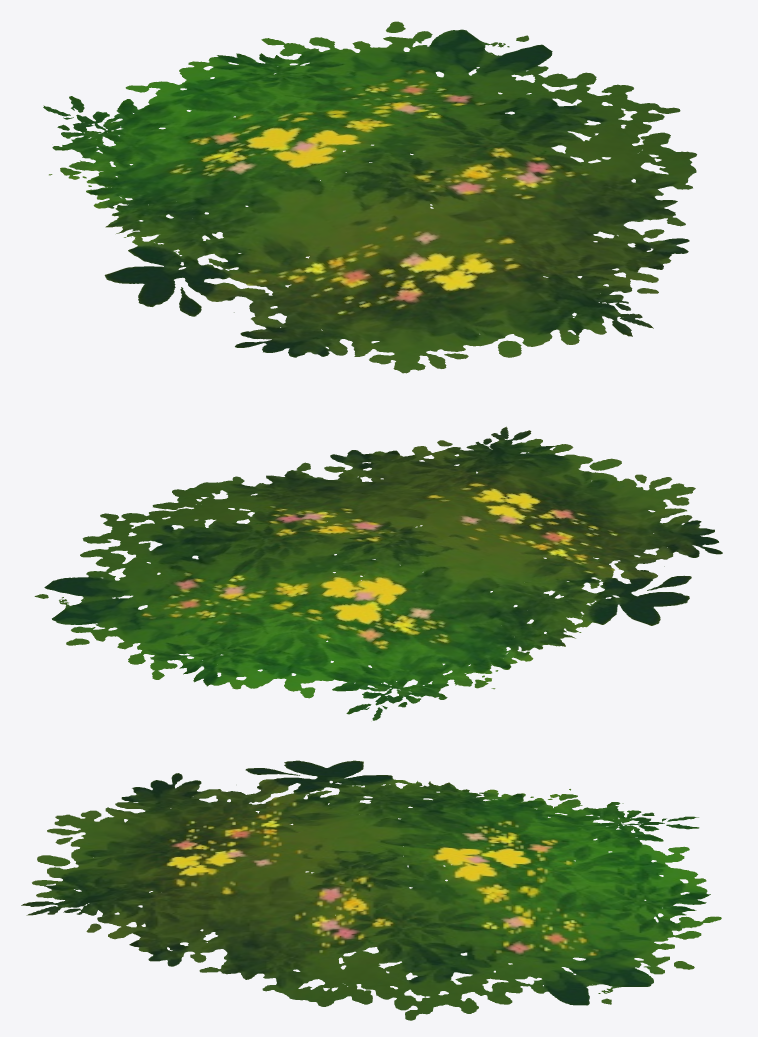
Rendered from SM_Seamoss_02.fbx.
3 renders of one model, top to bottom at view 1: azimuth 30°, elevation 25°; view 2: azimuth 150°, elevation 25°; view 3: azimuth 270°, elevation 25°, orthographic. The views are drawn at different scales.
Visible parts, largest first — view 1: SM_Seamoss_02; view 2: SM_Seamoss_02; view 3: SM_Seamoss_02.
Boxes of the visible parts, x1,y1,x2,y2 form: SM_Seamoss_02: (43, 21, 696, 373); SM_Seamoss_02: (34, 426, 722, 720); SM_Seamoss_02: (21, 760, 721, 1020).
Bounding box in the file's own units: 0.5074 × 0.0199 × 0.5894.
1 material, 1 textured.
